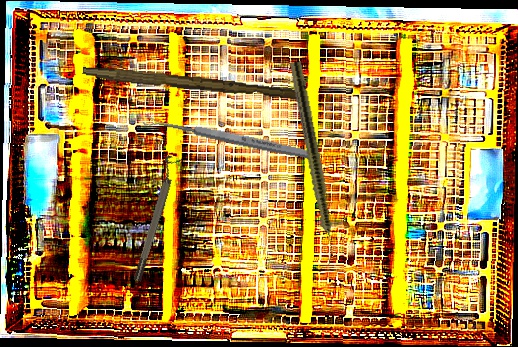Fixation Ring: (126, 154, 183, 283)
Handpiece: (286, 60, 342, 267)
Scalpel Handle: (81, 66, 308, 102)
Surgical Spoon: (142, 113, 322, 163)
